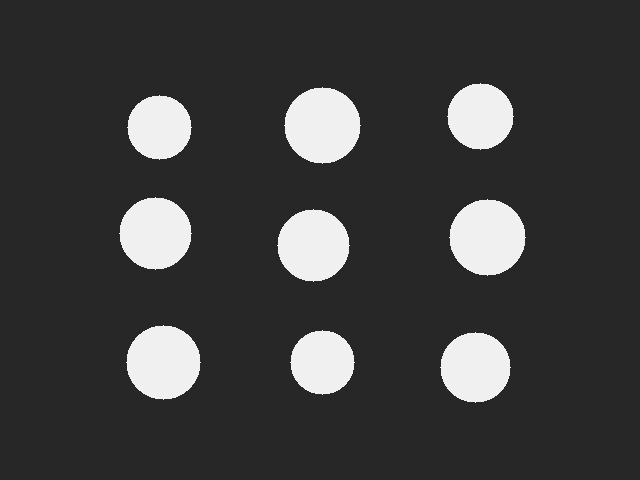hole: (284, 87, 360, 163), (449, 199, 525, 275), (126, 325, 200, 399), (119, 197, 191, 269), (277, 209, 349, 281), (440, 332, 510, 402), (447, 83, 513, 149), (127, 95, 191, 159), (290, 330, 354, 394)
